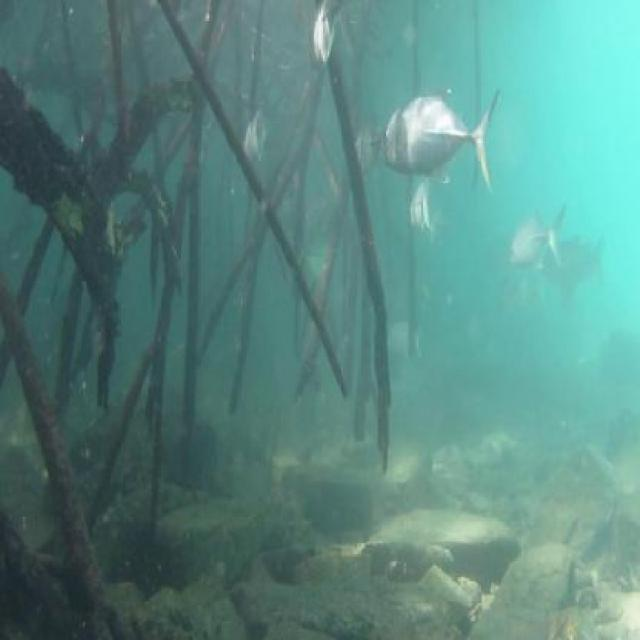Caranx_sexfasciatus_juvenile: (379, 89, 498, 191), (545, 227, 612, 295), (508, 203, 560, 272), (295, 220, 336, 294), (306, 0, 340, 68), (347, 113, 382, 179), (237, 107, 272, 168), (380, 312, 418, 362), (409, 182, 436, 240)
